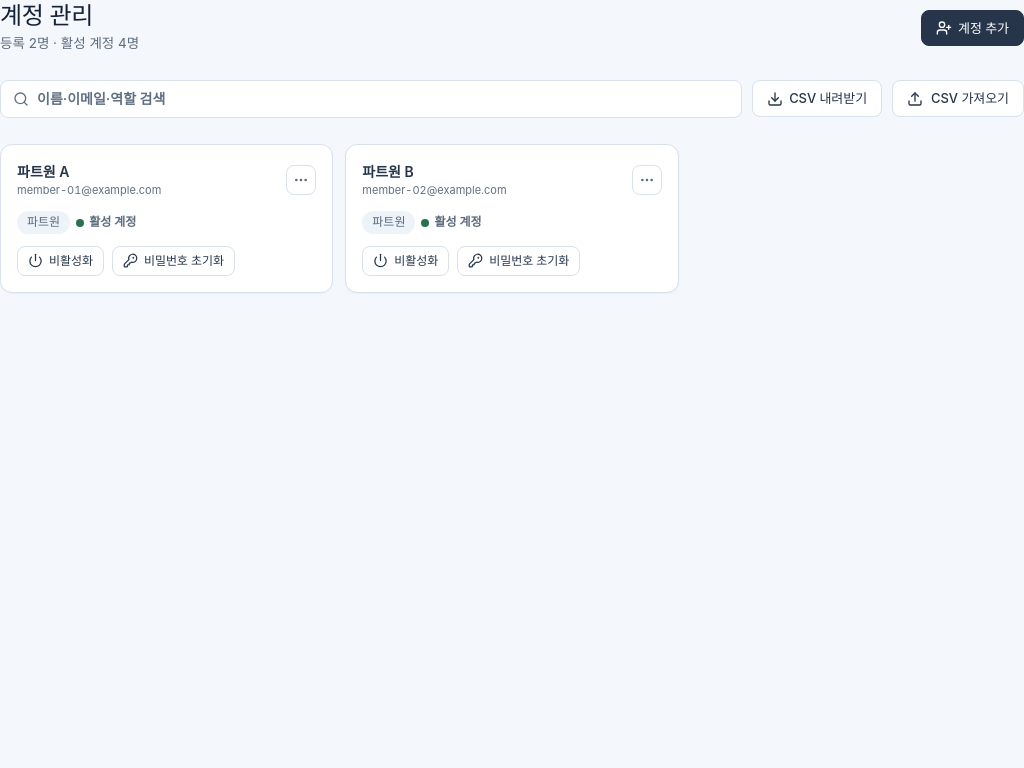
Scenario: InviteMasterPanel › tells the leader the shared temporary password when adding an account
Click the button "계정 추가": (972, 28) [921,10,1023,46]
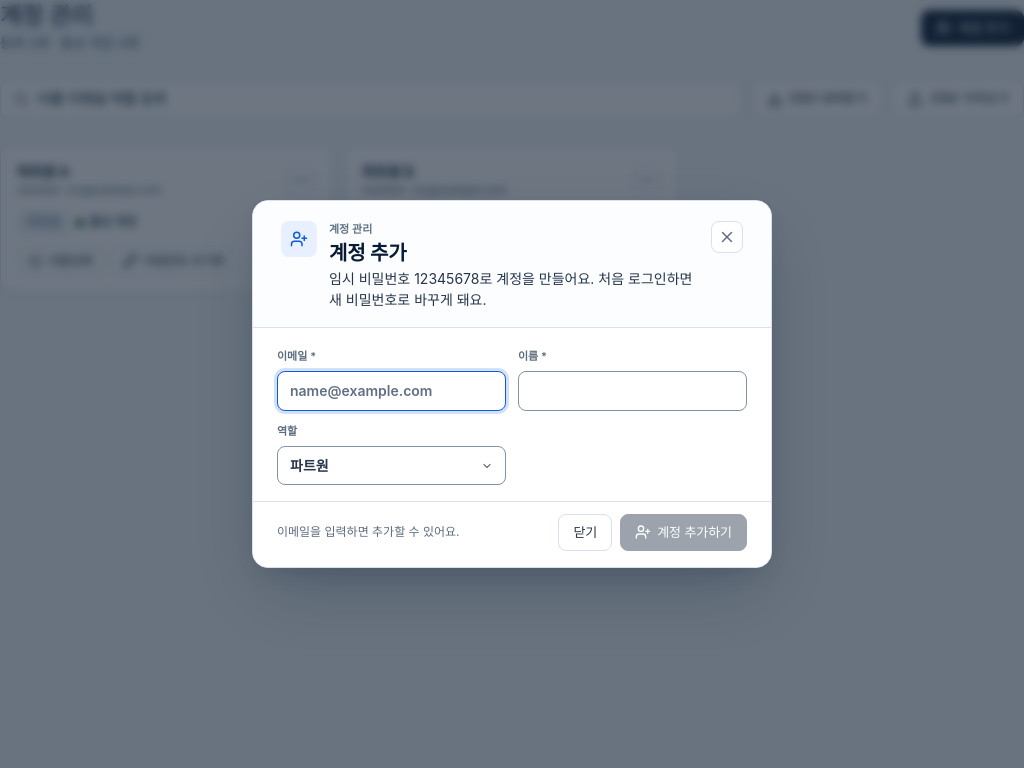
Check: the dialog "계정 추가" shows "임시 비밀번호 12345678로 계정을 만들어요. 처음 로그인하면 새 비밀번호로 바꾸게 돼요.", box [329,270,692,308]
